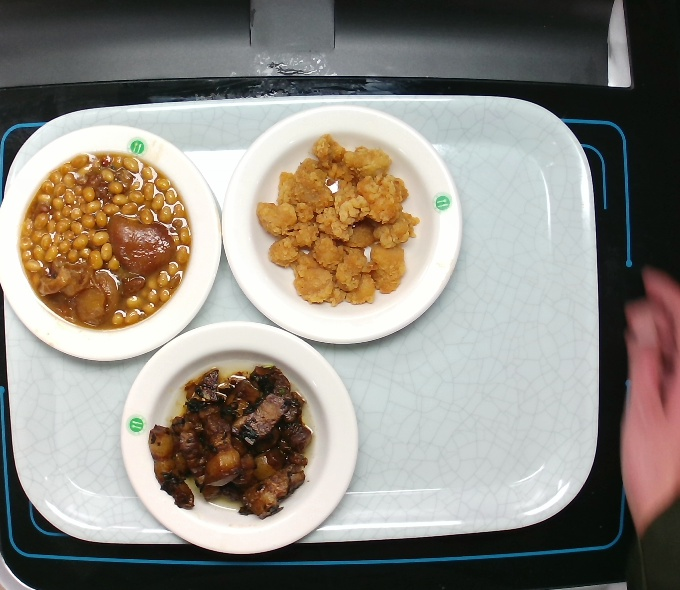wcq-GanCaiRou: (147, 364, 315, 519)
wcq-HuangDouZhuJiao: (18, 149, 194, 332)
wcq-JiMiHua: (256, 132, 419, 307)
